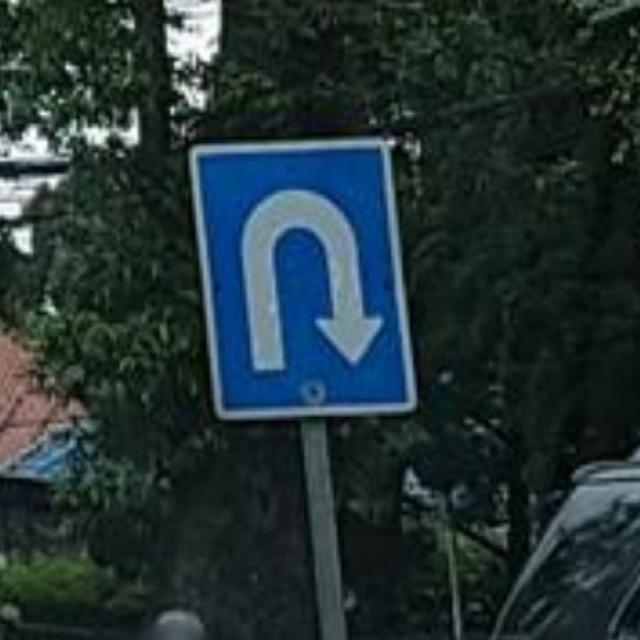traffic sign: (187, 142, 420, 416)
